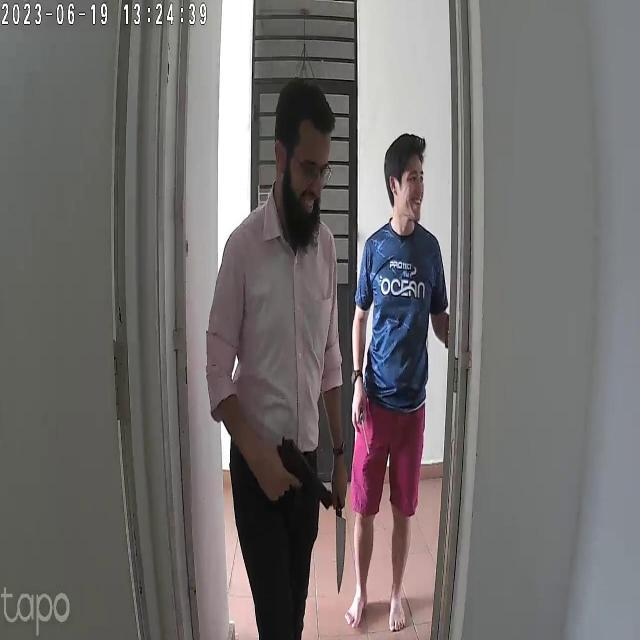Gun: (266, 438, 332, 499)
Knife: (332, 519, 362, 596)
